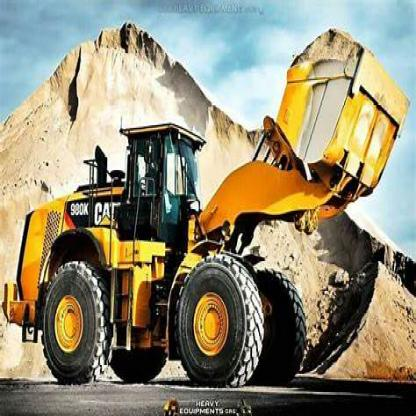bull_dozer/loader/grader: (4, 26, 411, 394)
